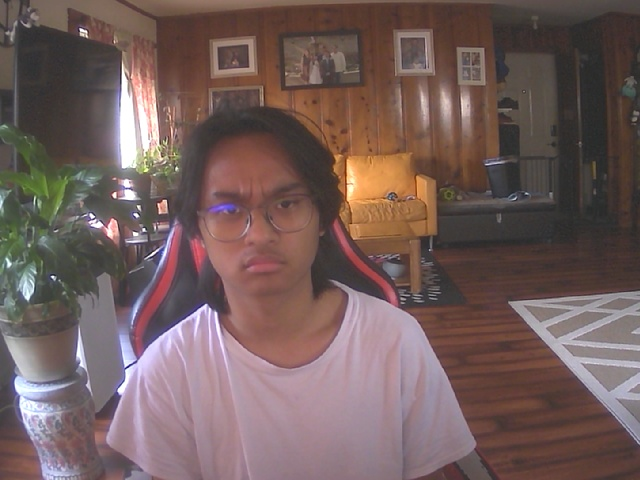anger: (194, 116, 332, 299)
